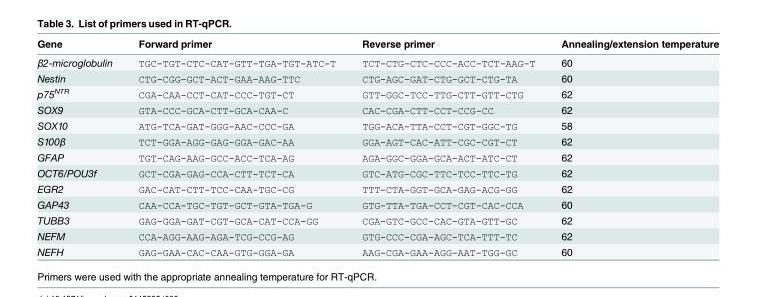table: (36, 37, 718, 257)
table column: (124, 37, 348, 257), (348, 37, 547, 257), (547, 37, 718, 257), (36, 37, 124, 257)
table column header: (36, 37, 718, 52)
table row: (36, 52, 718, 70), (36, 85, 718, 101), (36, 101, 718, 117), (36, 117, 718, 133), (36, 133, 718, 149), (36, 164, 718, 180), (36, 180, 718, 196), (36, 196, 718, 212), (36, 227, 718, 243), (36, 37, 718, 52), (36, 70, 718, 85), (36, 149, 718, 164), (36, 212, 718, 227), (36, 243, 718, 257)
